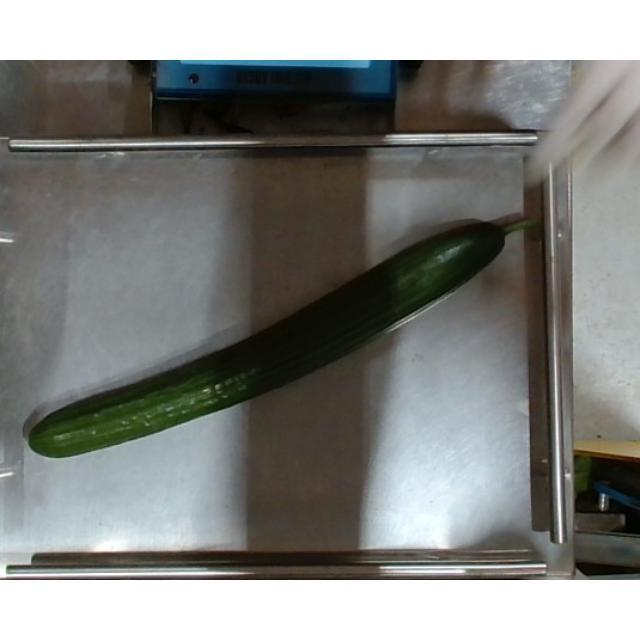cucumber: (26, 214, 538, 458)
